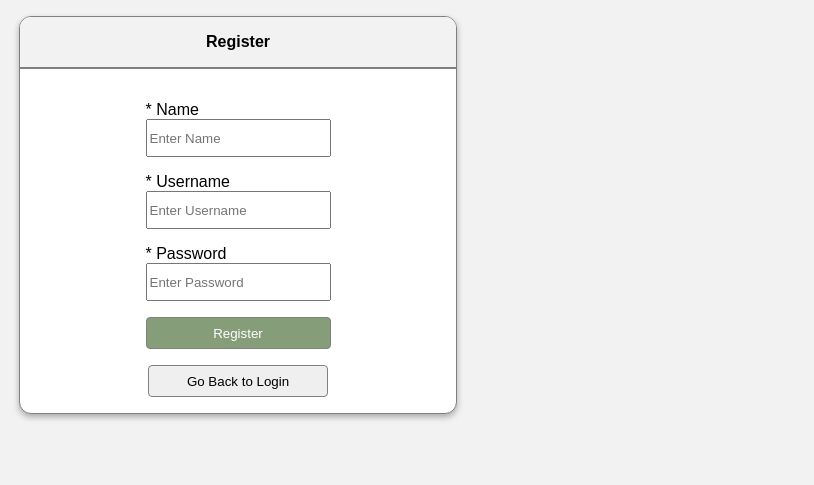
Test: My First Test › should verify error field tooltips
Click the button "Register" at (239, 333), box [146,317,331,349]
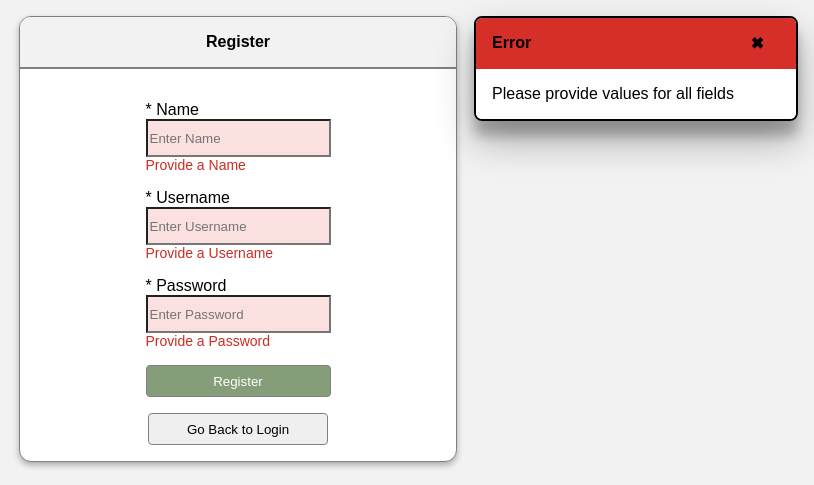
Expected: the text "Provide a Name" is shown, [146,157,246,173]
Expected: the text "Provide a Username" is shown, [146,245,273,261]
Expected: the text "Provide a Password" is shown, [146,333,270,349]
